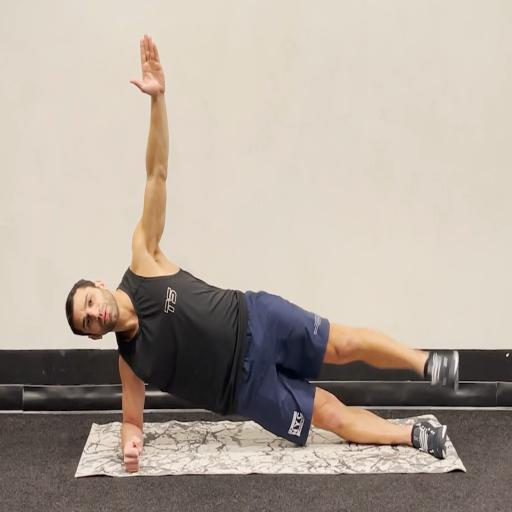Normal_Dips: (28, 7, 512, 507)
